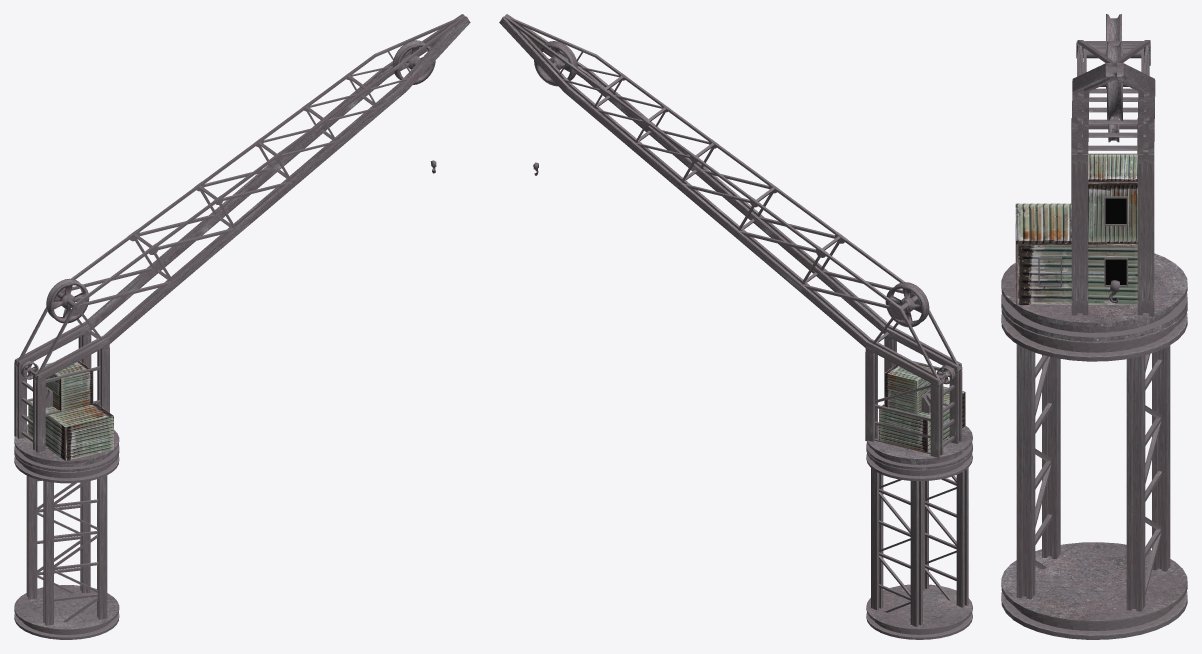
Rendered from Crane.glb.
The picture shows the model from 3 angles, left to right: view 1: azimuth 30°, elevation 25°; view 2: azimuth 150°, elevation 25°; view 3: azimuth 270°, elevation 25°; orthographic projection. The views are drawn at different scales.
Visible parts, largest first — view 1: UpperCrane, LowerCrane, Gear002, Gear003; view 2: UpperCrane, LowerCrane, Gear002, Gear003; view 3: LowerCrane, UpperCrane, Gear003, Gear002.
Part boxes in pixels (box(x1,y1,x2,y2)): UpperCrane: box(14, 14, 470, 471); LowerCrane: box(14, 450, 119, 639); Gear002: box(46, 278, 89, 323); Gear003: box(392, 40, 435, 84); UpperCrane: box(499, 14, 972, 469); LowerCrane: box(866, 448, 972, 639); Gear002: box(885, 282, 929, 327); Gear003: box(534, 41, 577, 86); LowerCrane: box(1001, 303, 1187, 639); UpperCrane: box(1001, 40, 1187, 341); Gear003: box(1107, 42, 1122, 120); Gear002: box(1106, 14, 1121, 88).
Bounding box in the file's own units: 42.03 × 44.31 × 8.44.
4 materials, 2 textured.
